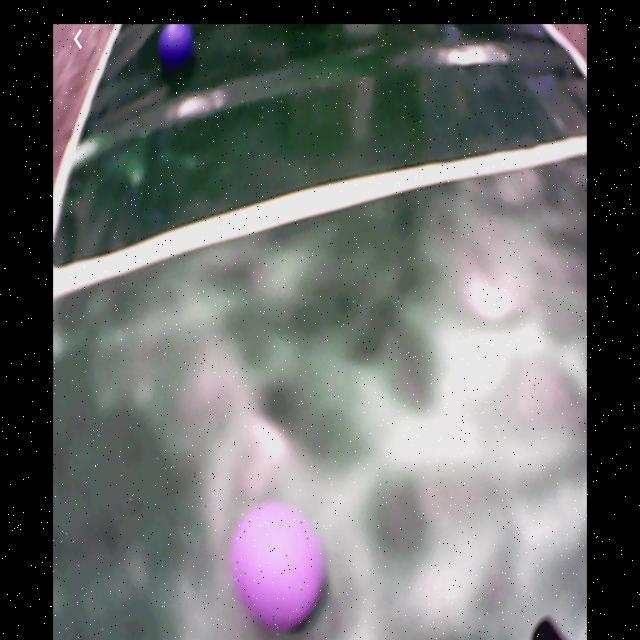ball: (232, 498, 326, 638), (158, 26, 197, 69)
